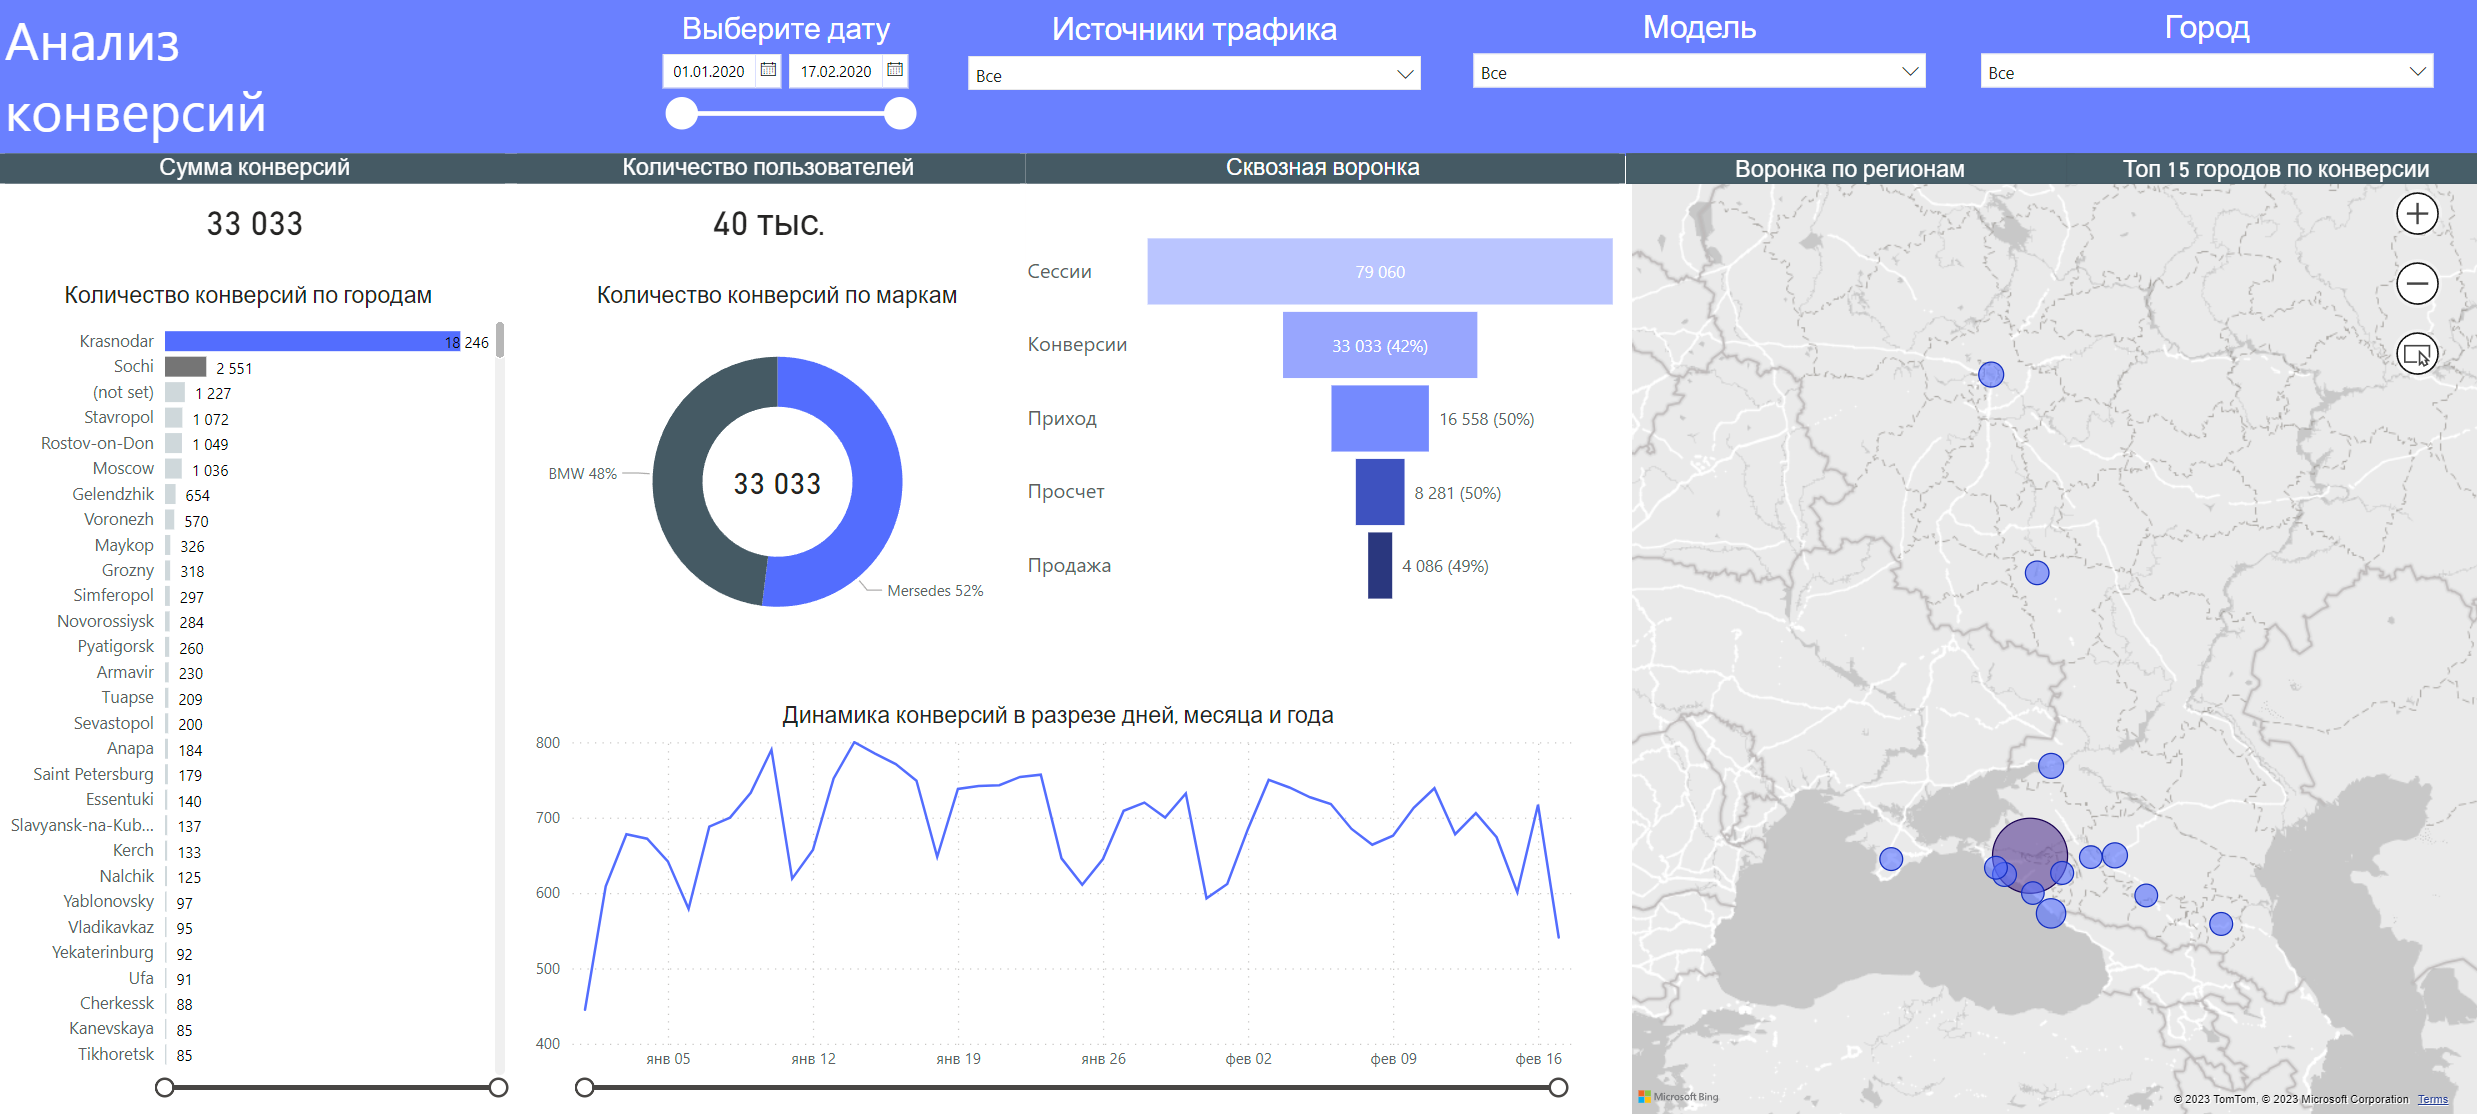

The page's visual inventory and layout, read from the dashboard file:
{"tool":"powerbi","page":{"name":"Сквозная аналитика","canvas":[2000,900],"ordinal":0},"visuals":[{"type":"textbox","box":[10,0,1990,128],"z":0},{"type":"barChart","title":"Количество конверсий по городам","fields":{"Y":["Sum(Маркетинговые данные.Конверсия)"],"Category":["Маркетинговые данные.City"]},"box":[0,228,420,656],"z":1000},{"type":"lineChart","title":"Динамика конверсий в разрезе дней, месяца и года","fields":{"Y":["Sum(Маркетинговые данные.Конверсия)"],"Category":["Маркетинговые данные.Date.Изменение.Иерархия дат.Год","Маркетинговые данные.Date.Изменение.Иерархия дат.Месяц","Маркетинговые данные.Date.Изменение.Иерархия дат.День"]},"box":[434,564,848,320],"z":2000},{"type":"donutChart","title":"Количество конверсий по маркам","fields":{"Category":["Маркетинговые данные.Марка"],"Y":["Sum(Маркетинговые данные.Конверсия)"]},"box":[434,228,398,302],"z":3000},{"type":"card","fields":{"Values":["Sum(Маркетинговые данные.Конверсия)"]},"box":[576,288,114,202],"z":4000},{"type":"slicer","title":"Город","fields":{"Values":["Маркетинговые данные.Region","Маркетинговые данные.City"]},"box":[1586,10,382,128],"z":5000},{"type":"slicer","title":"Модель","fields":{"Values":["Маркетинговые данные.Марка"]},"box":[1180,10,382,128],"z":6000},{"type":"slicer","title":"Источники трафика","fields":{"Values":["Маркетинговые данные.Medium","Маркетинговые данные.Source","Маркетинговые данные.Campaign","Маркетинговые данные.Keyword"]},"box":[776,12,382,126],"z":7000},{"type":"slicer","title":" Выберите дату","fields":{"Values":["Маркетинговые данные.Date"]},"box":[527.1,12.9,224.3,101.4],"z":8000},{"type":"funnel","title":"Сквозная воронка","fields":{"Y":["Sum(Маркетинговые данные.Sessions)","Sum(Маркетинговые данные.Конверсия)","Sum(Данные из CRM.Приход к диллеру)","Sum(Данные из CRM.Просчет стоимости модели)","Sum(Данные из CRM.Продажа)"]},"box":[828.9,125.6,483.3,404.4],"z":9000},{"type":"card","title":"Сумма конверсий","fields":{"Values":["Sum(Маркетинговые данные.Конверсия)"]},"box":[10,126,410,90],"z":10000},{"type":"card","title":"Количество пользователей","fields":{"Values":["Count(Данные из CRM.Client ID)"]},"box":[419.4,125.9,411.8,90],"z":11000},{"type":"map","title":"Топ 15 городов по количеству конверсий","fields":{"Category":["Маркетинговые данные.City"],"Size":["Sum(Маркетинговые данные.Конверсия)"]},"box":[1312,126,688,774],"z":12000},{"type":"shape","box":[1312.2,125.6,358.9,24.4],"z":14000},{"type":"shape","box":[1663.3,125.6,336.7,24.4],"z":15000}]}

Visuals, with their boxes in screenshot pixels (x1, y1, x2, y2), scaled from the page's 2000x900 canvas onto the 2477x1119 screenshot:
textbox: left=12, top=0, right=2476, bottom=159
"Количество конверсий по городам" barChart: left=0, top=283, right=520, bottom=1099
"Динамика конверсий в разрезе дней, месяца и года" lineChart: left=538, top=701, right=1588, bottom=1099
"Количество конверсий по маркам" donutChart: left=538, top=283, right=1030, bottom=659
card - Sum(Маркетинговые данные.Конверсия): left=713, top=358, right=855, bottom=609
"Город" slicer: left=1964, top=12, right=2437, bottom=172
"Модель" slicer: left=1461, top=12, right=1935, bottom=172
"Источники трафика" slicer: left=961, top=15, right=1434, bottom=172
" Выберите дату" slicer: left=653, top=16, right=931, bottom=142
"Сквозная воронка" funnel: left=1027, top=156, right=1625, bottom=659
"Сумма конверсий" card: left=12, top=157, right=520, bottom=269
"Количество пользователей" card: left=519, top=157, right=1029, bottom=268
"Топ 15 городов по количеству конверсий" map: left=1625, top=157, right=2476, bottom=1118
shape: left=1625, top=156, right=2070, bottom=186
shape: left=2060, top=156, right=2476, bottom=186
